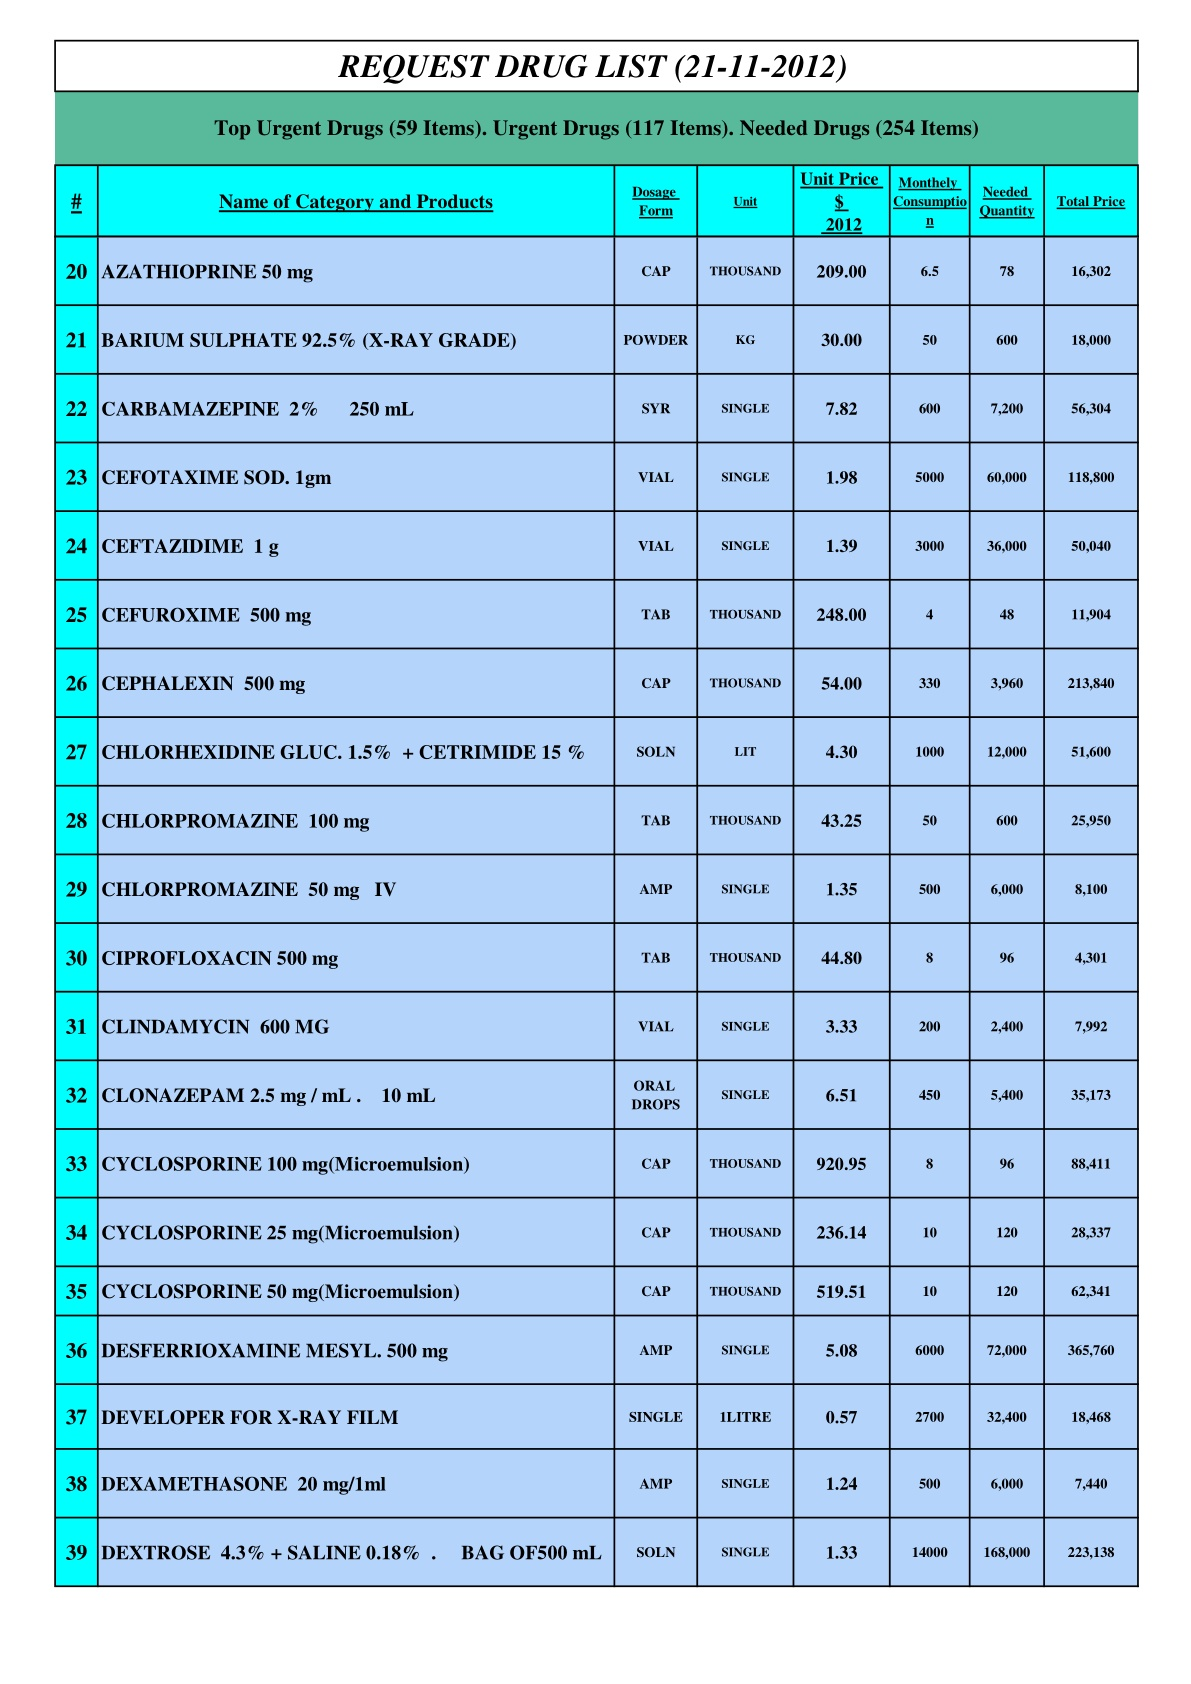merged_cells: (54, 37, 1139, 1587)
